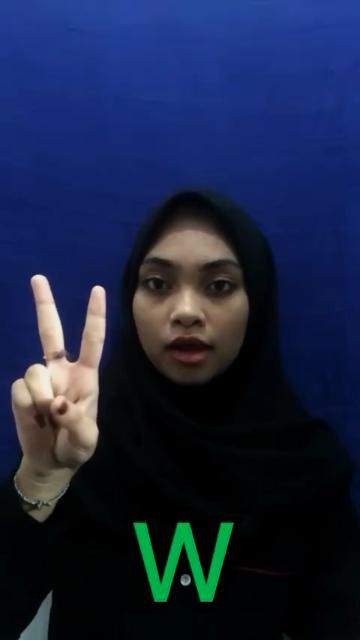V: (0, 265, 123, 484)
